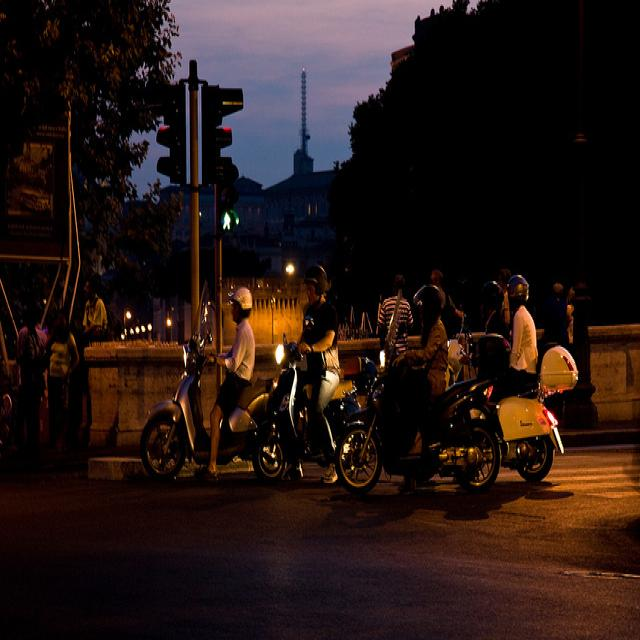Motorbike: (354, 345, 520, 535), (444, 290, 603, 479), (264, 309, 365, 513), (170, 332, 291, 490)
